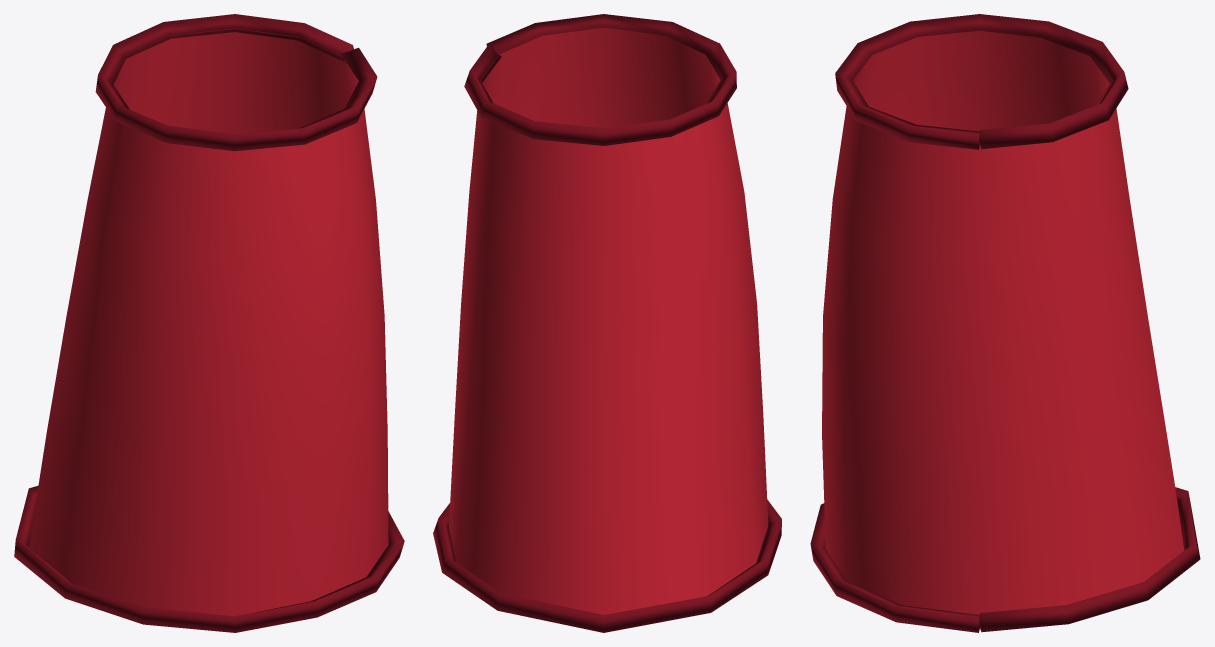
The model's file is adamantite_armor_cuisse.R.glb.
3 views of the same model, side by side, from view 1: azimuth 30°, elevation 25°; view 2: azimuth 150°, elevation 25°; view 3: azimuth 270°, elevation 25° (orthographic). The views are drawn at different scales.
Visible parts, largest first — view 1: adamantite_armor_cuisse.R; view 2: adamantite_armor_cuisse.R; view 3: adamantite_armor_cuisse.R.
Boxes of the visible parts, bbox=[...] form: adamantite_armor_cuisse.R: bbox=[14, 14, 404, 632]; adamantite_armor_cuisse.R: bbox=[433, 14, 781, 632]; adamantite_armor_cuisse.R: bbox=[810, 14, 1200, 632].
Bounding box in the file's own units: 0.2669 × 0.3856 × 0.2783.
